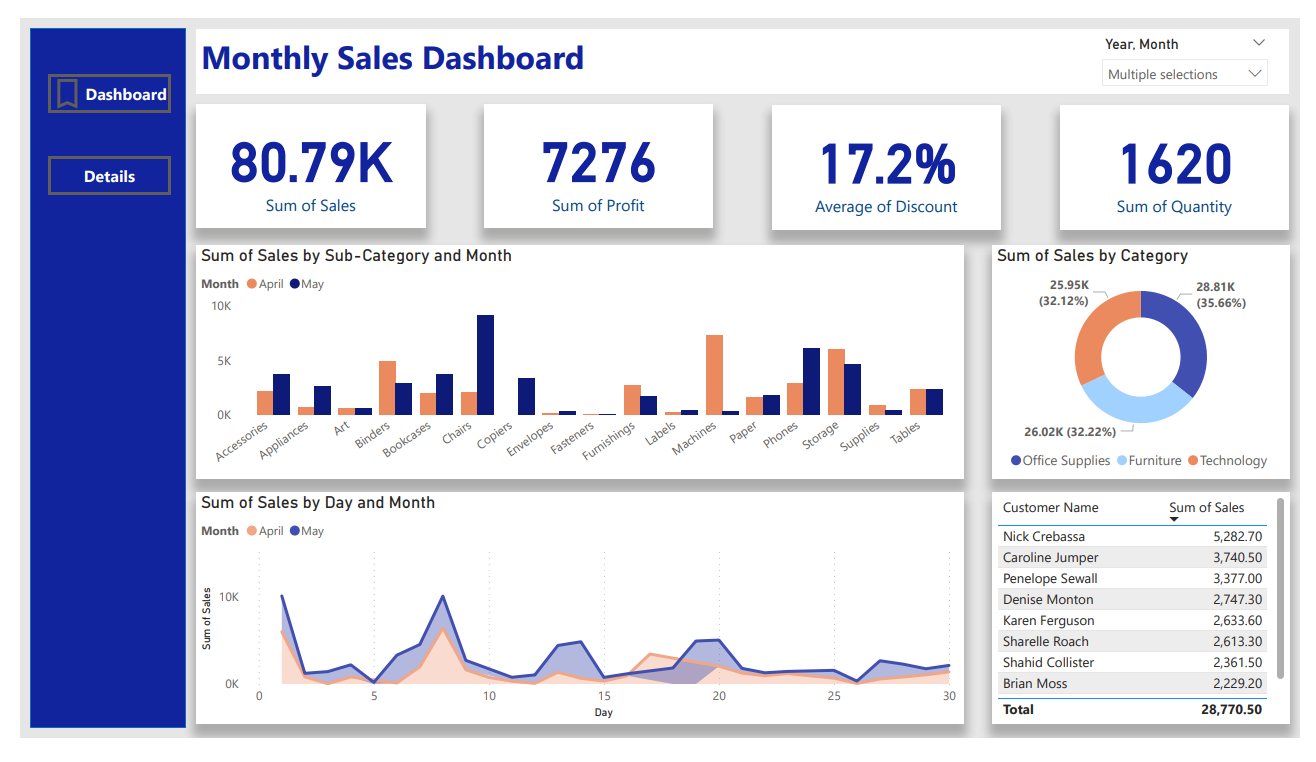

The dashboard page shown, as its layout file describes it:
{"tool":"powerbi","page":{"name":"Dashboard","canvas":[1280,720],"ordinal":0},"visuals":[{"type":"card","fields":{"Values":["Sheet1.Sales"]},"box":[176,85.6,229.1,124.2],"z":0,"group":"g1"},{"type":"shape","box":[9.6,9.6,156.8,700.7],"z":0},{"type":"card","fields":{"Values":["Sheet1.Profit"]},"box":[463.8,85.6,229.1,124.2],"z":1000,"group":"g1"},{"type":"actionButton","box":[27.7,55.7,123,39.8],"z":1000},{"type":"card","fields":{"Values":["Sheet1.Discount"]},"box":[751.6,86.9,229.1,124.2],"z":2000,"group":"g1"},{"type":"actionButton","box":[27.7,137.7,123,39.8],"z":2000},{"type":"card","fields":{"Values":["Sheet1.Quantity"]},"box":[1039.4,86.9,229.1,124.2],"z":3000,"group":"g1"},{"type":"textbox","box":[176.1,10.9,1092.7,65.1],"z":3000},{"type":"slicer","fields":{"Values":["Sheet1.Order Month.Variation.Date Hierarchy.Year","Sheet1.Order Month.Variation.Date Hierarchy.Month"]},"box":[1072.2,13.3,185.7,59.1],"z":4000},{"type":"clusteredColumnChart","fields":{"Category":["Sheet1.Sub-Category"],"Y":["Sheet1.Sales"],"Series":["Sheet1.Order Month.Variation.Date Hierarchy.Month"]},"box":[175.6,226.4,768.4,234.6],"z":4000,"group":"g1"},{"type":"group","id":"g1","title":"Group 1","box":[175.6,85.6,1093.7,619.7],"z":5000},{"type":"stackedAreaChart","fields":{"Category":["Sheet1.Order Month.Variation.Date Hierarchy.Day"],"Y":["Sheet1.Sales"],"Series":["Sheet1.Order Month.Variation.Date Hierarchy.Month"]},"box":[175.6,473.4,768.4,231.9],"z":5000,"group":"g1"},{"type":"donutChart","fields":{"Category":["Sheet1.Category"],"Y":["Sheet1.Sales"]},"box":[971.5,226.4,297.8,234.6],"z":6000,"group":"g1"},{"type":"tableEx","fields":{"Values":["Sheet1.Customer Name","Sheet1.Sales"]},"box":[971.5,473.4,297.8,231.9],"z":7000,"group":"g1"}]}

Visuals, with their boxes in screenshot pixels (x1, y1, x2, y2), scaled from the page's 1280x720 canvas onto the 1316x762 screenshot:
card - Sheet1.Sales: 181/91/416/222
shape: 10/10/171/752
card - Sheet1.Profit: 477/91/712/222
actionButton: 28/59/155/101
card - Sheet1.Discount: 773/92/1008/223
actionButton: 28/146/155/188
card - Sheet1.Quantity: 1069/92/1304/223
textbox: 181/12/1304/80
slicer - Sheet1.Order Month.Variation.Date Hierarchy.Year x Sheet1.Order Month.Variation.Date Hierarchy.Month: 1102/14/1293/77
clusteredColumnChart - Sheet1.Sub-Category x Sheet1.Sales: 181/240/971/488
"Group 1" group: 181/91/1305/746
stackedAreaChart - Sheet1.Order Month.Variation.Date Hierarchy.Day x Sheet1.Sales: 181/501/971/746
donutChart - Sheet1.Category x Sheet1.Sales: 999/240/1305/488
tableEx - Sheet1.Customer Name x Sheet1.Sales: 999/501/1305/746
